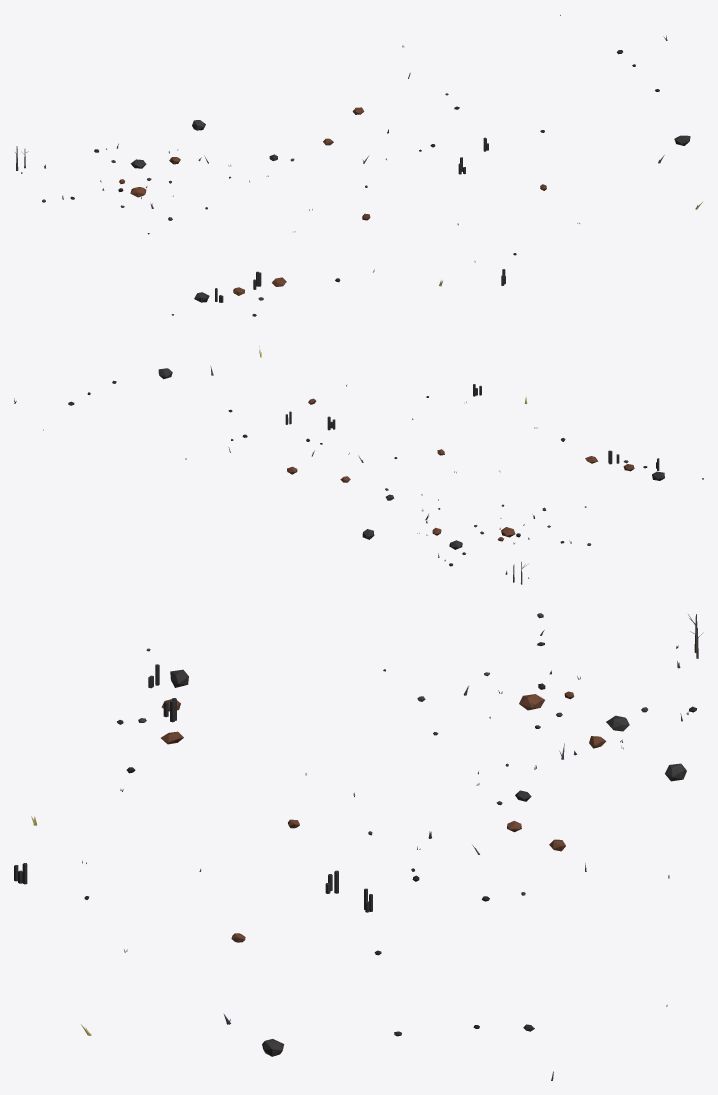
File: ash_land_scatter_c21_31_lod1.glb
3 renders of one model, top to bottom at view 1: azimuth 30°, elevation 25°; view 2: azimuth 150°, elevation 25°; view 3: azimuth 270°, elevation 25°, orthographic. The views are drawn at different scales.
Parts seen in each view (by area): view 1: ash_land_scatter_c21_31_lod1; view 2: ash_land_scatter_c21_31_lod1; view 3: ash_land_scatter_c21_31_lod1.
Boxes of the visible parts, x1,y1,x2,y2 form: ash_land_scatter_c21_31_lod1: [15, 15, 703, 316]; ash_land_scatter_c21_31_lod1: [14, 346, 703, 584]; ash_land_scatter_c21_31_lod1: [14, 613, 703, 1080].
Bounding box in the file's own units: 211 × 19.75 × 130.
